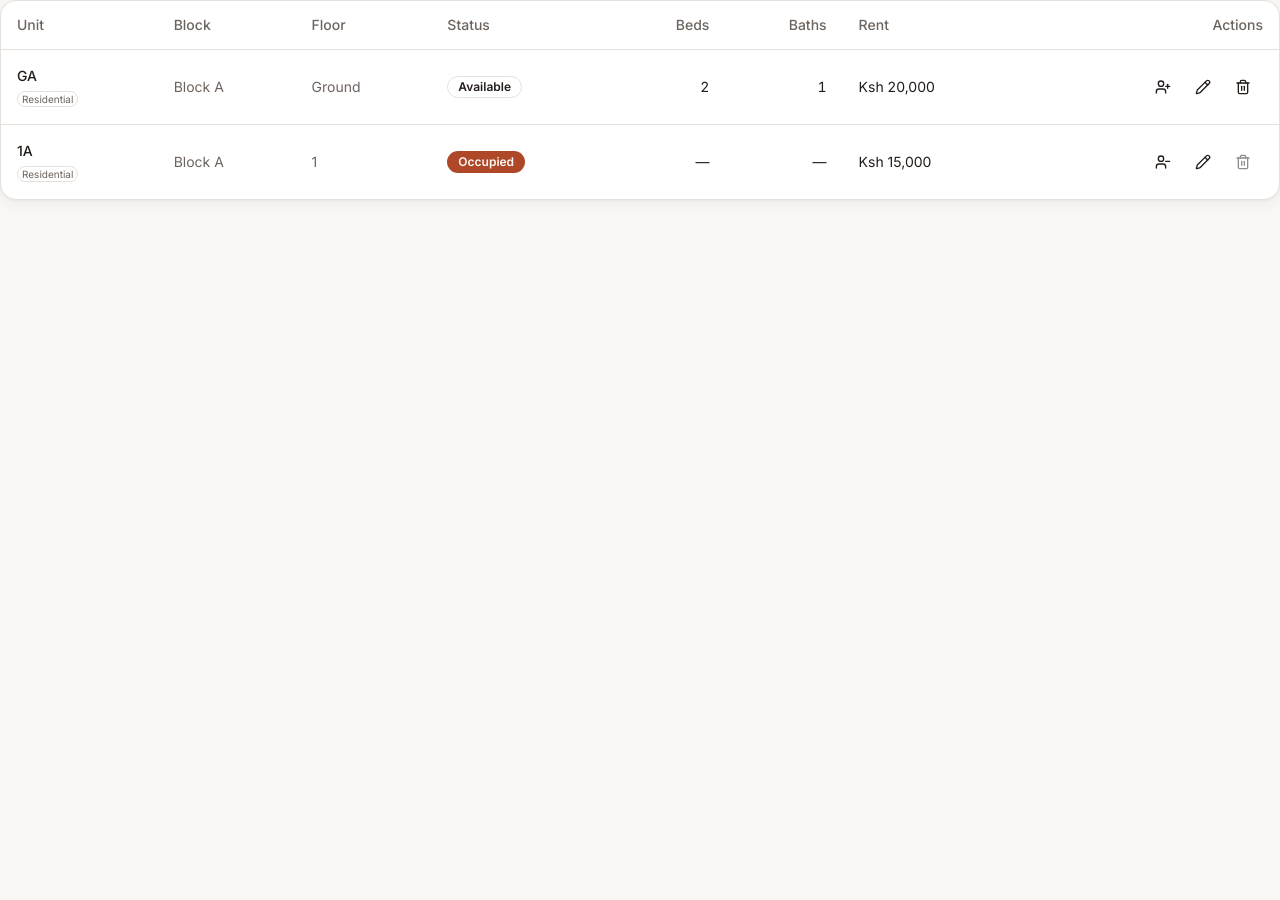
PropertyUnitsTable › unassigns the tenant from an occupied unit
The width and height of the screenshot is (1280, 900).
Click the button named "Unassign tenant from 1A".
click(1163, 162)  # box [1143,142,1183,182]
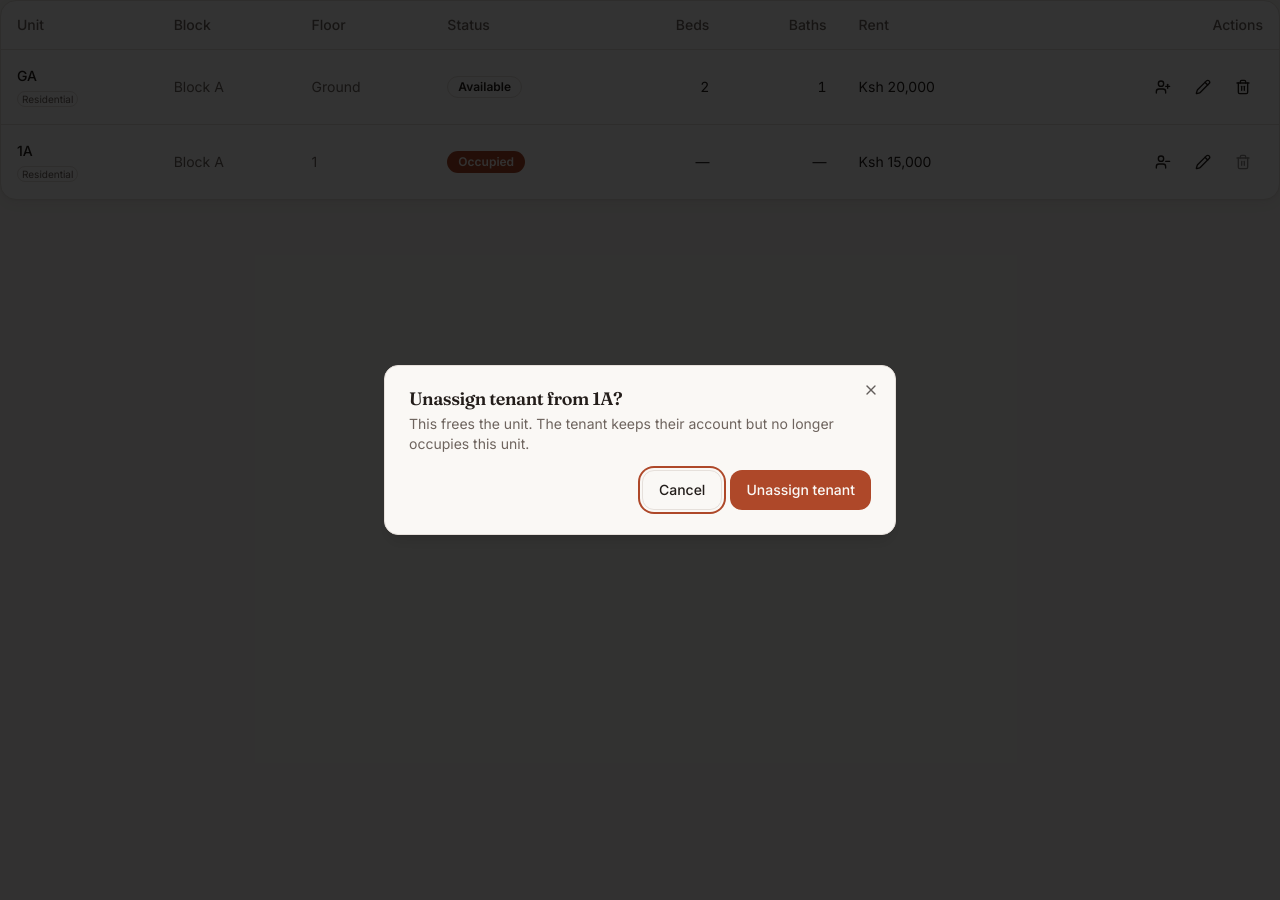
Click the button "Unassign tenant".
click(801, 490)  # box [730,470,871,510]
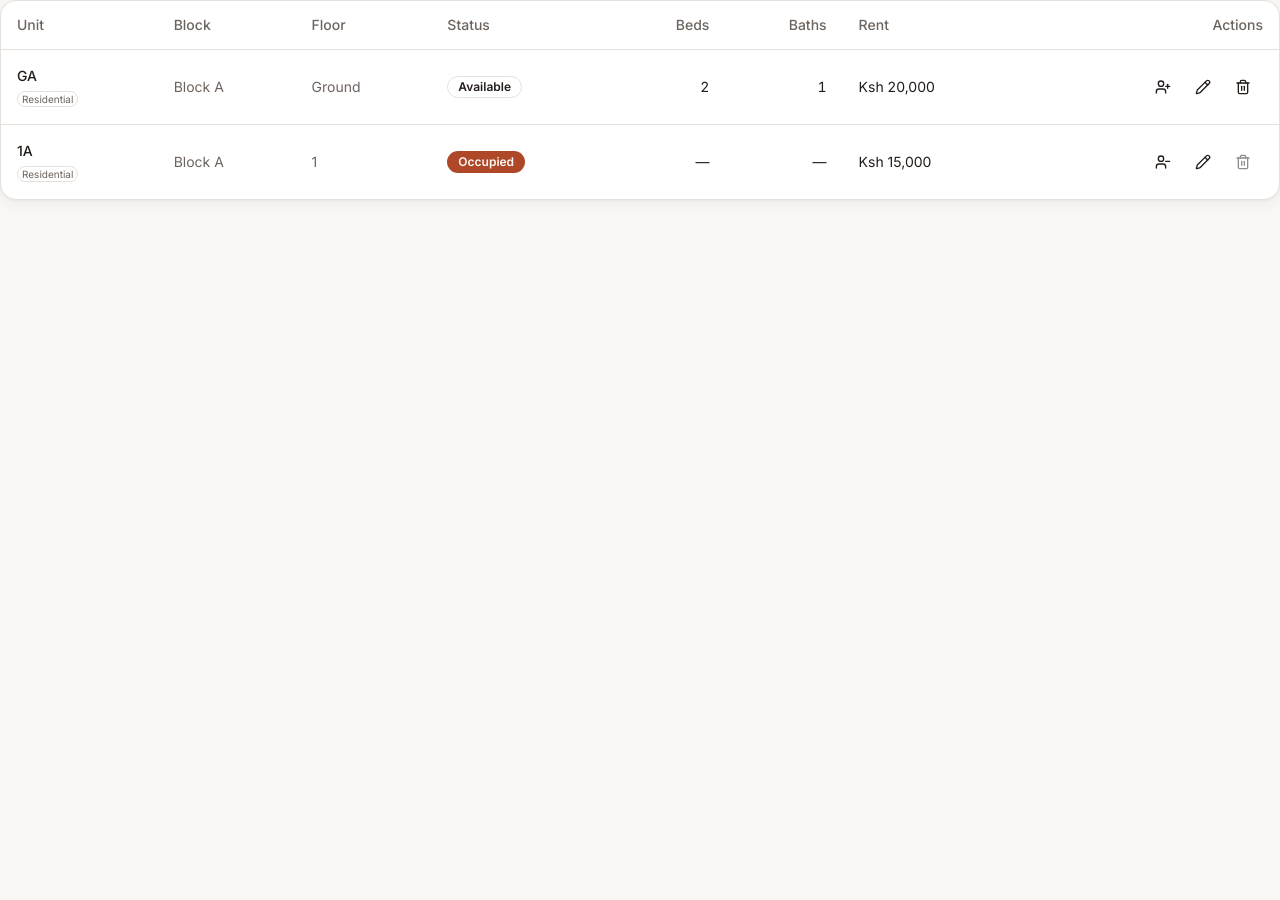
Now the button named "Unassign tenant from 1A" is shown, box [1143,142,1183,182]
